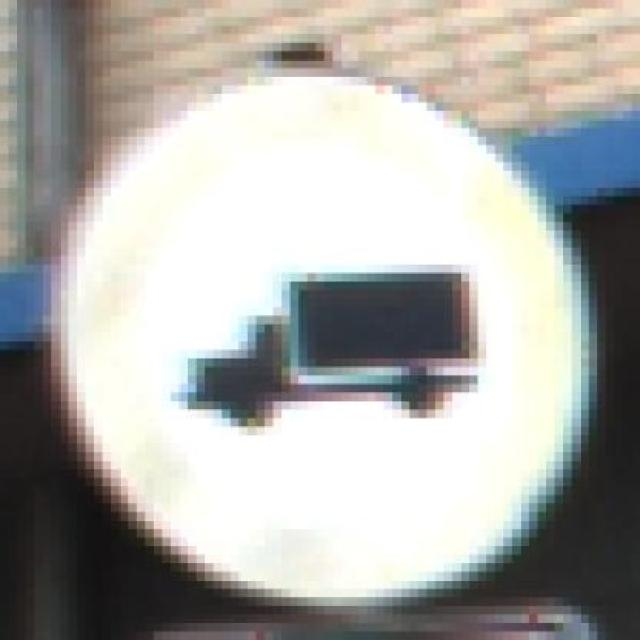Truck traffic is prohibited: (26, 59, 599, 613)
